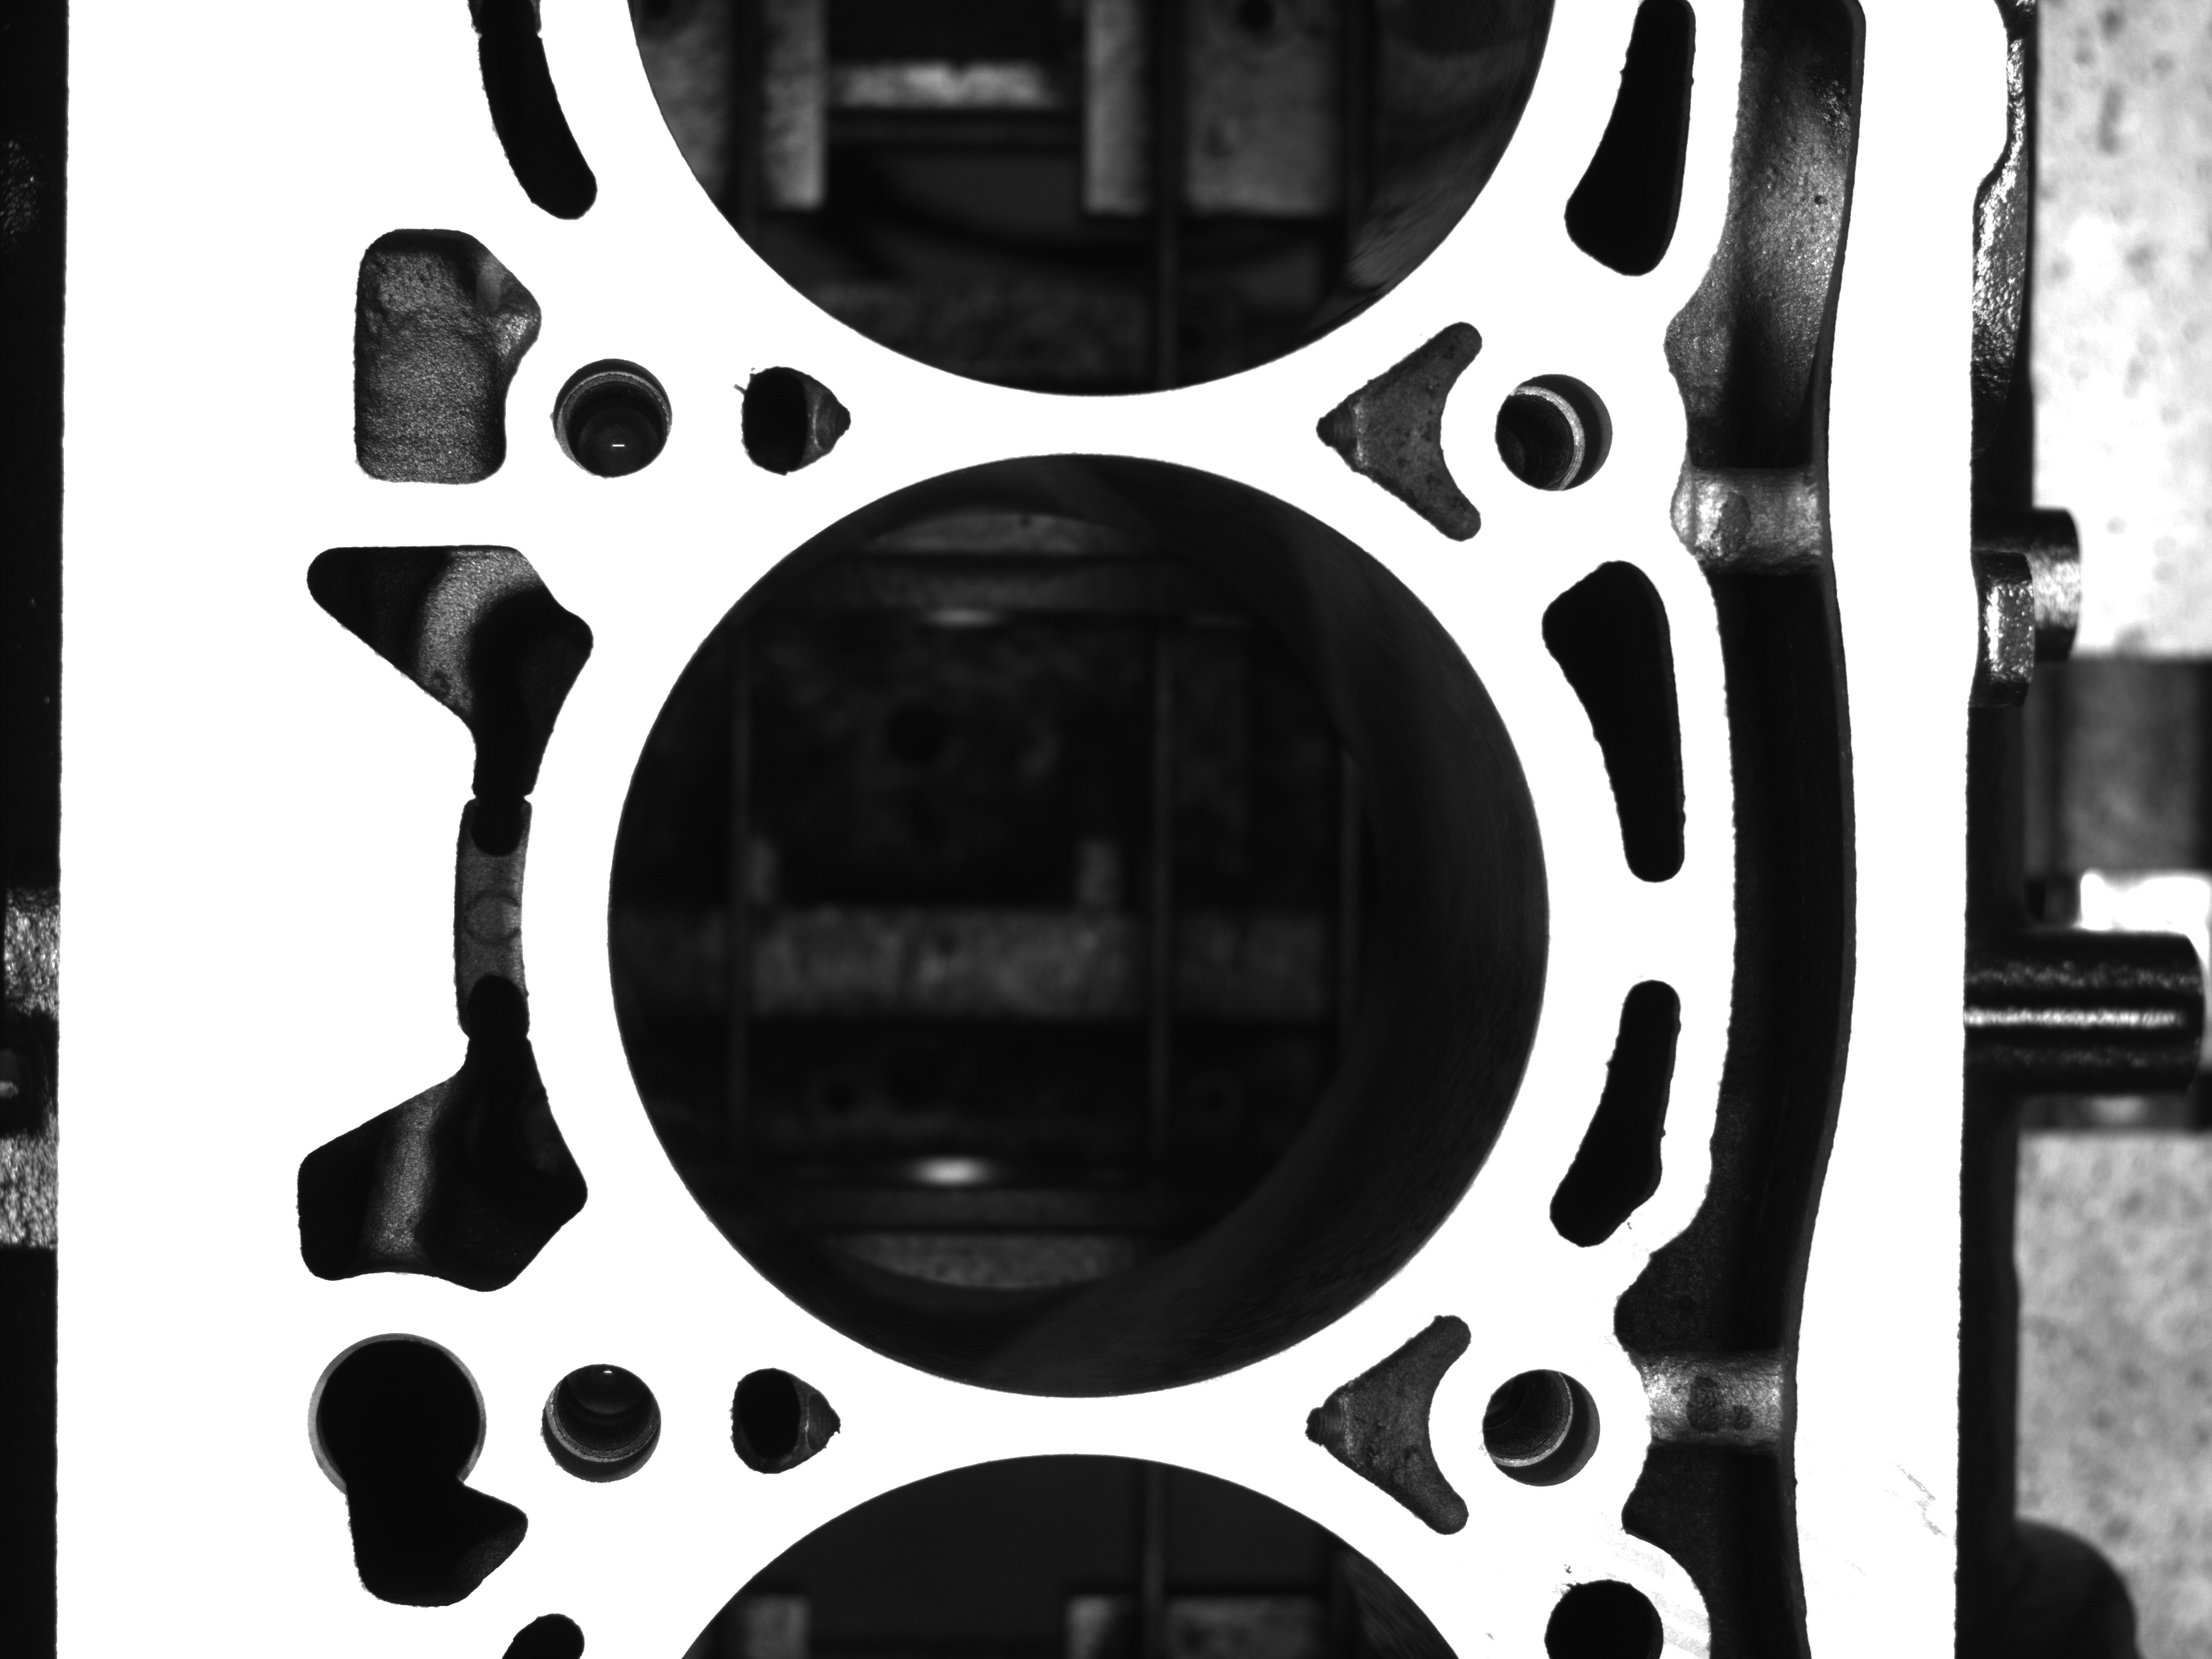crackle: (1615, 1213, 1656, 1263), (1550, 1547, 1583, 1595)
